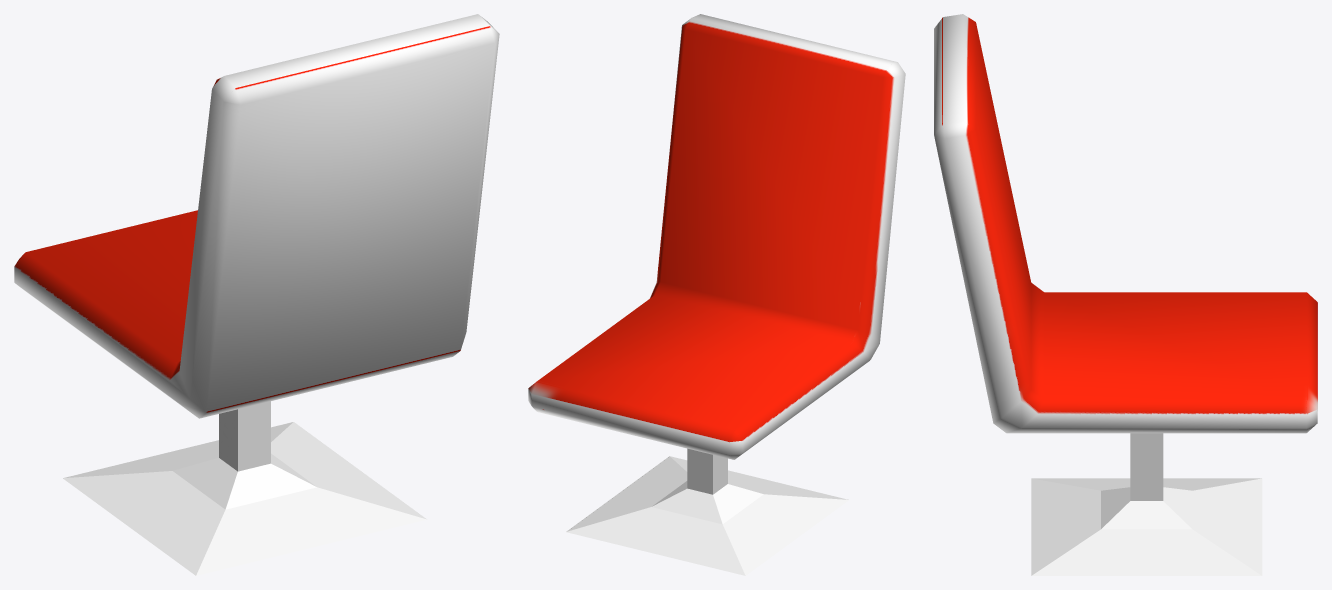
The model's file is chair.fbx.
The picture shows the model from 3 angles, left to right: view 1: azimuth 30°, elevation 25°; view 2: azimuth 150°, elevation 25°; view 3: azimuth 270°, elevation 25°; orthographic projection. The views are drawn at different scales.
Visible parts, largest first — view 1: Cube; view 2: Cube; view 3: Cube.
Part boxes in pixels (bbox=[...]): Cube: bbox=[14, 14, 499, 575]; Cube: bbox=[528, 14, 905, 575]; Cube: bbox=[934, 14, 1317, 575].
Size of the model in its own units: 1.63 by 3 by 2.27.
